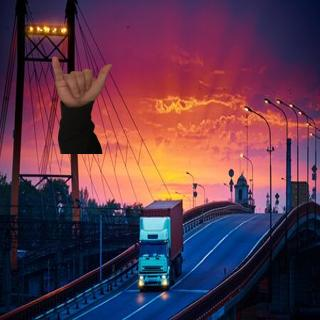HAVE: (42, 50, 117, 113)
